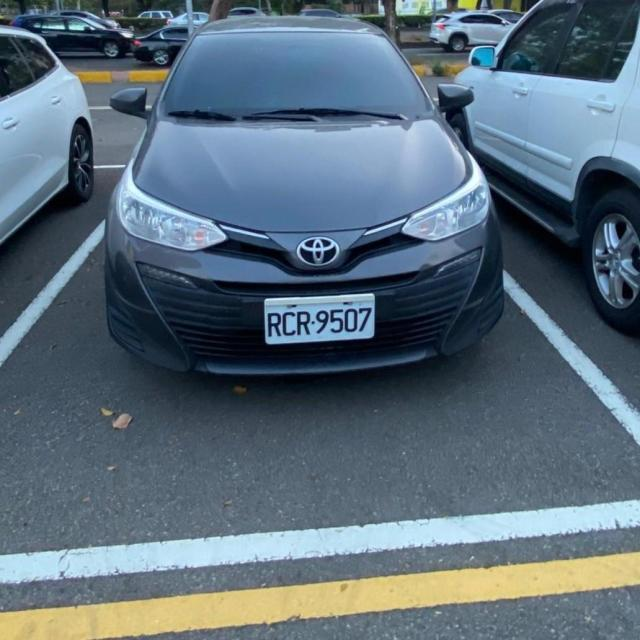W: (263, 293, 376, 345)
